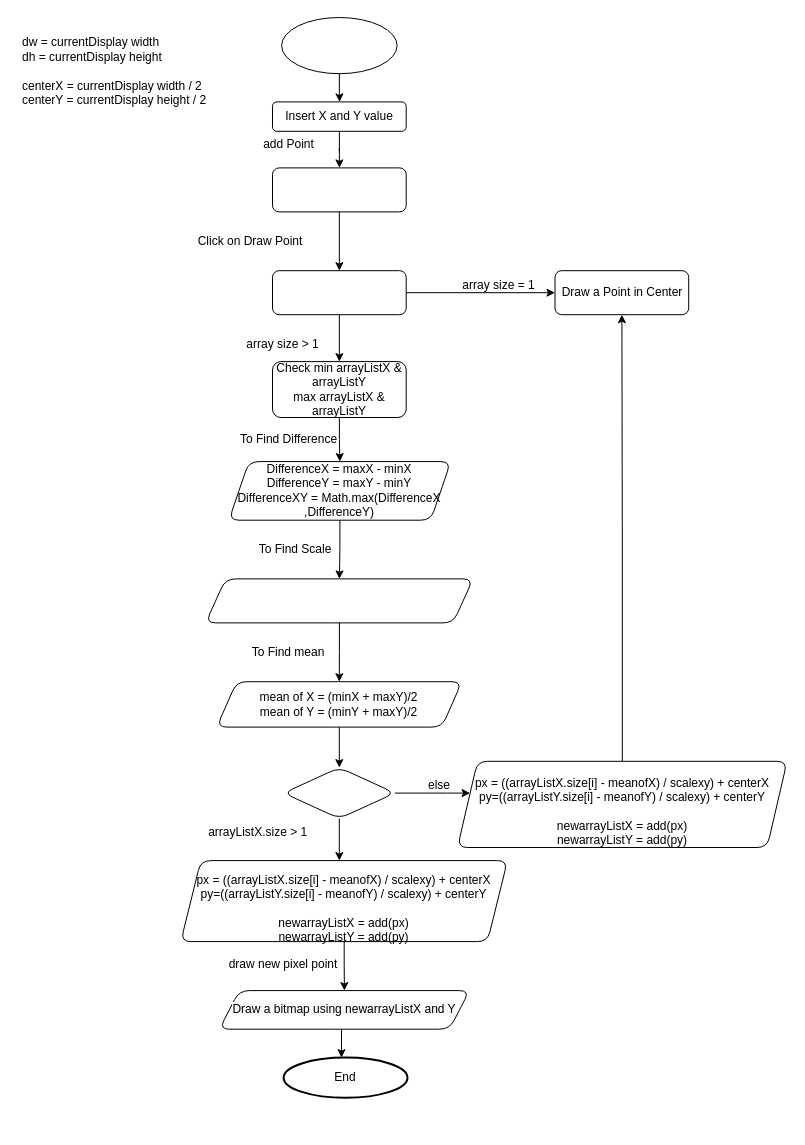
This 805x1145 diagram has some shape labels left out. The shapes that lost their labels are listed below. From the top down, each one's box as (x1, y1, x2, y2) in pixels, then its label:
(281, 16, 397, 74): Start
(272, 167, 406, 212): Value added in arrayListX and arrayListY
(272, 270, 406, 315): Check ArrayList Size is 1 or > than 1
(205, 578, 473, 623): scaleXY = DifferenceXY/dw
(283, 767, 395, 818): if
